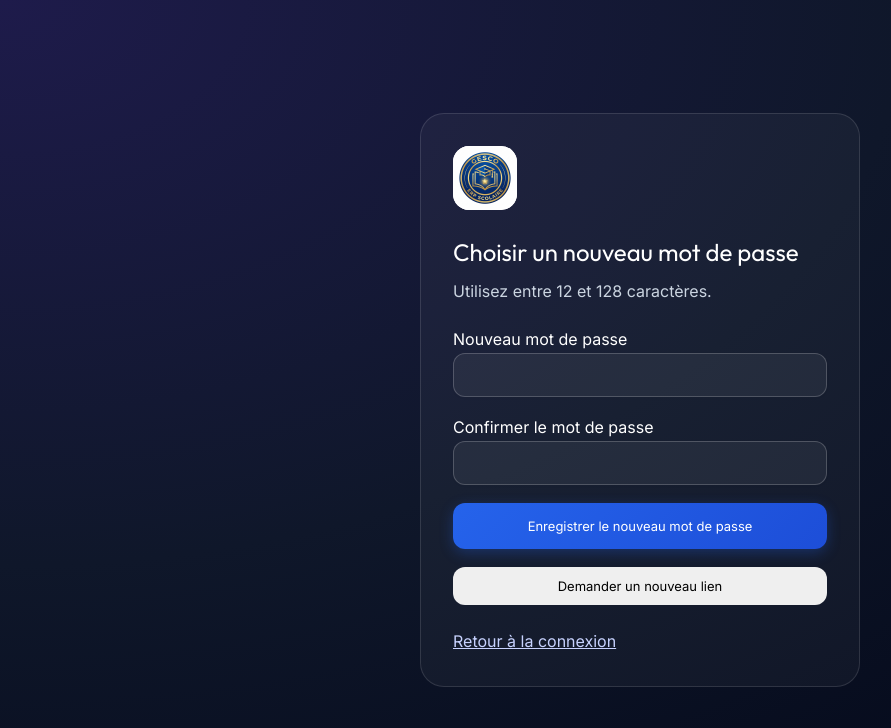
Test: Password recovery page › keeps the retry form when reset fails
This screenshot has width=891, height=728.
Type "new-test-password" into the password field labelled "Nouveau mot de passe".
click(640, 375); type("new-test-password")  # box [453, 353, 827, 397]
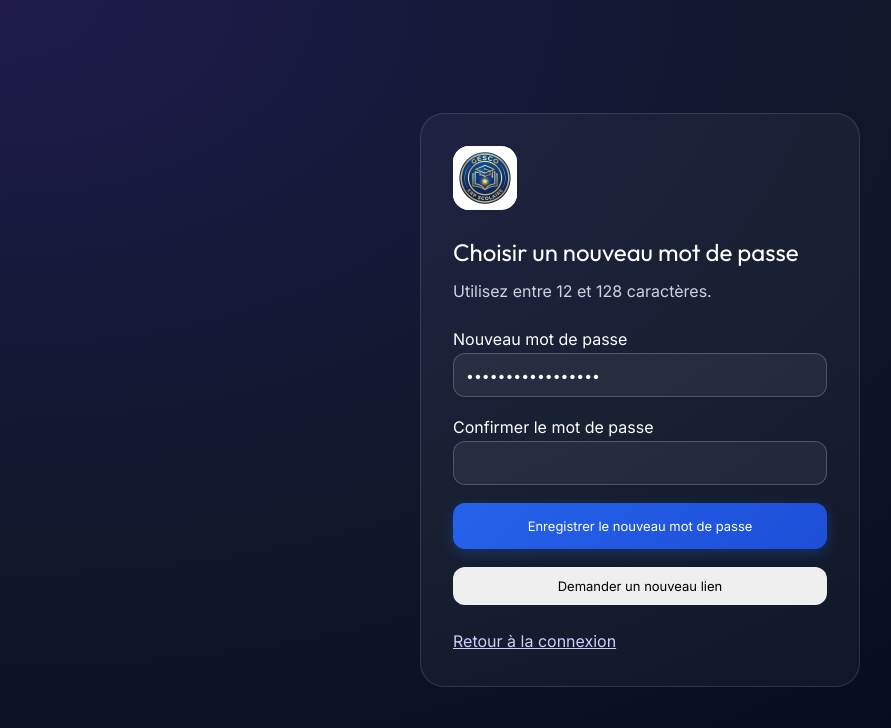
Type "new-test-password" into the password field labelled "Confirmer le mot de passe".
click(640, 463); type("new-test-password")  # box [453, 441, 827, 485]
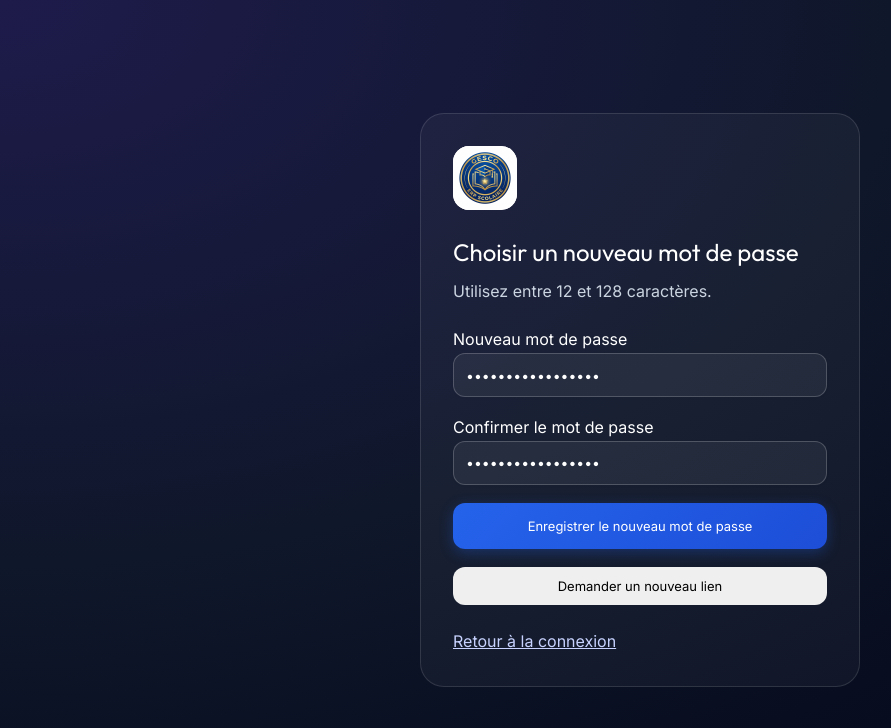
Click the button "Enregistrer le nouveau mot de passe".
click(640, 526)  # box [453, 503, 827, 549]
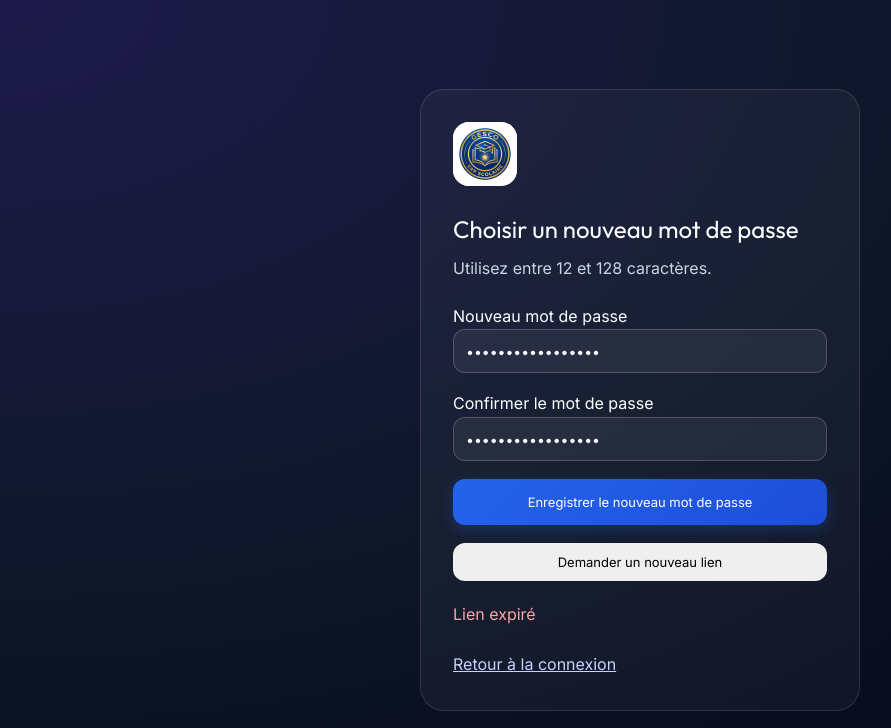
Expected: the message reads "Lien expiré", [453, 604, 536, 624]
Click the button "Demander un nouveau lien".
click(640, 562)  # box [453, 543, 827, 581]
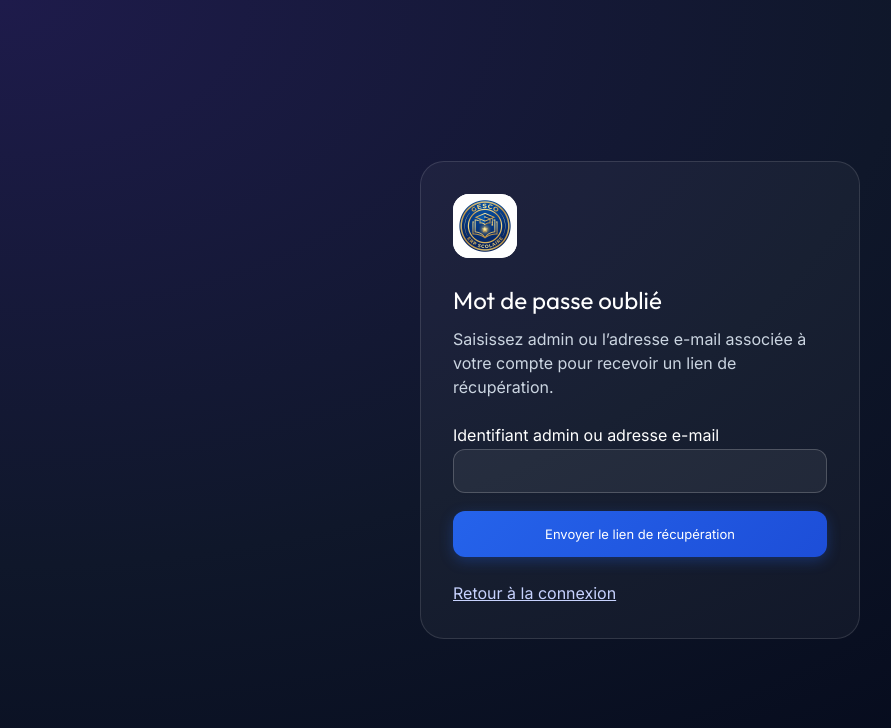
Expected: the field labelled "Identifiant admin ou adresse e-mail" is shown, [453, 449, 827, 493]
